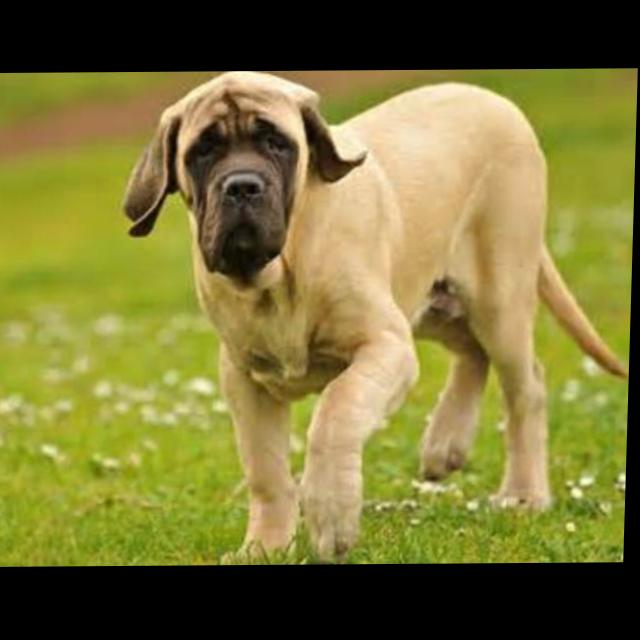mastiff: (114, 70, 639, 567)
